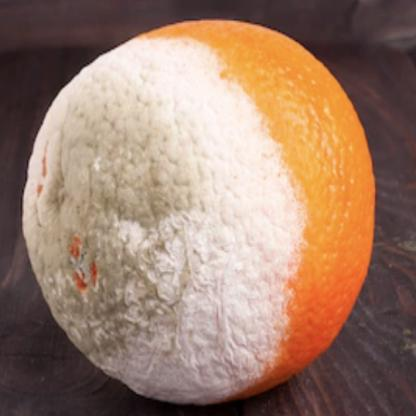rotten: (23, 18, 379, 402)
